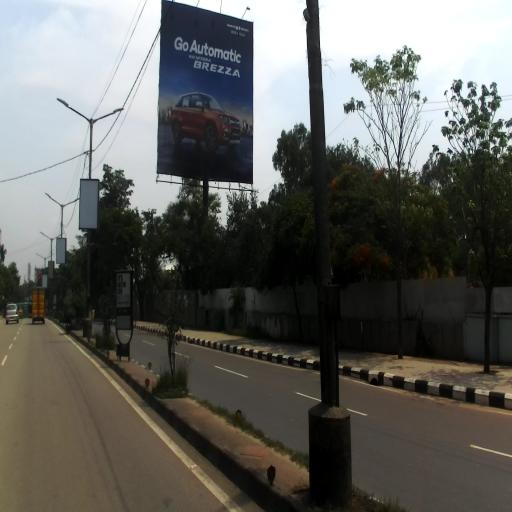street_light_0: (56, 97, 93, 130), (90, 108, 124, 128), (44, 193, 64, 209), (61, 199, 80, 209), (39, 232, 53, 243), (50, 234, 64, 244), (36, 252, 46, 264), (44, 254, 54, 262)
